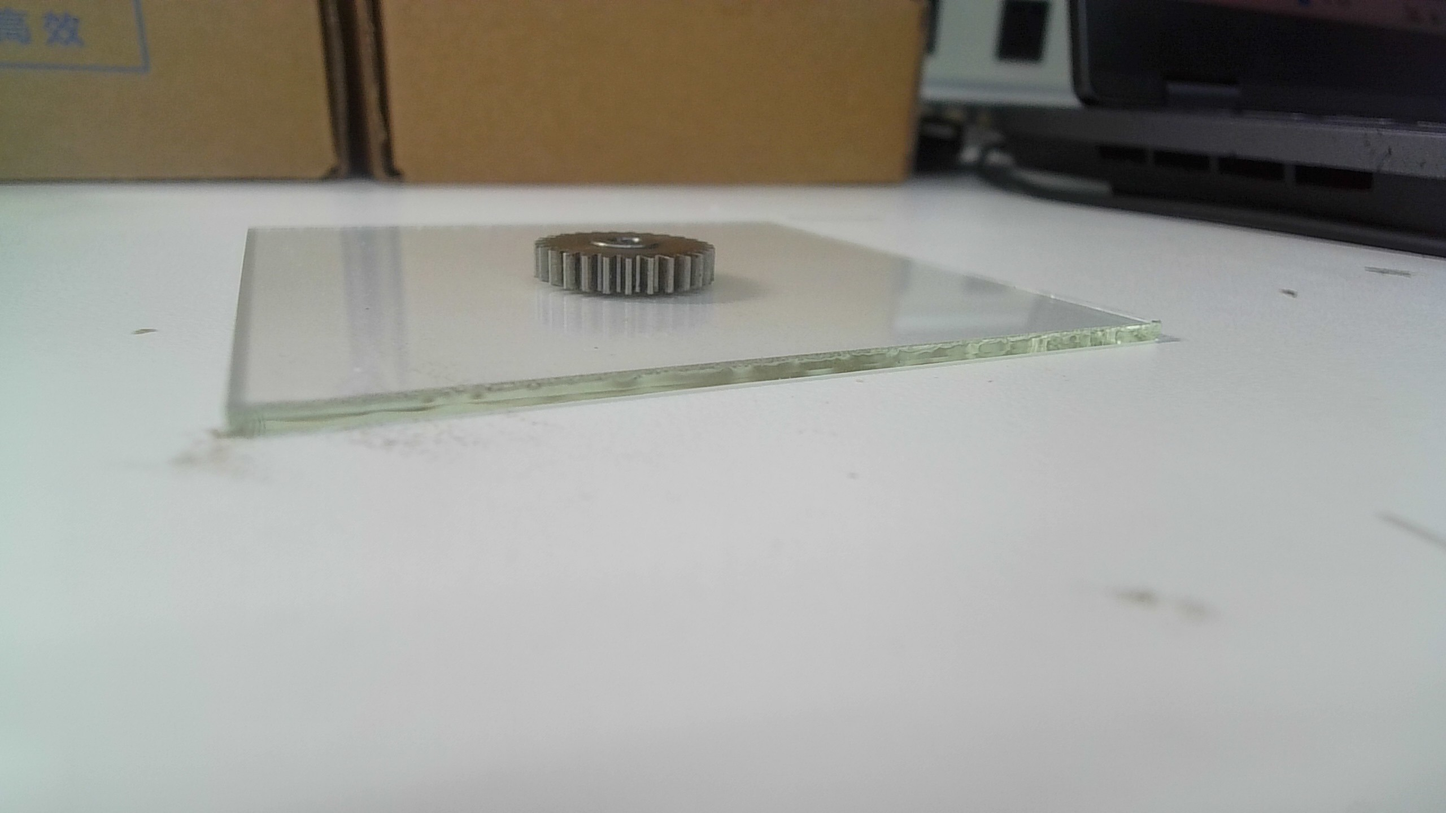gear: (531, 229, 719, 301)
